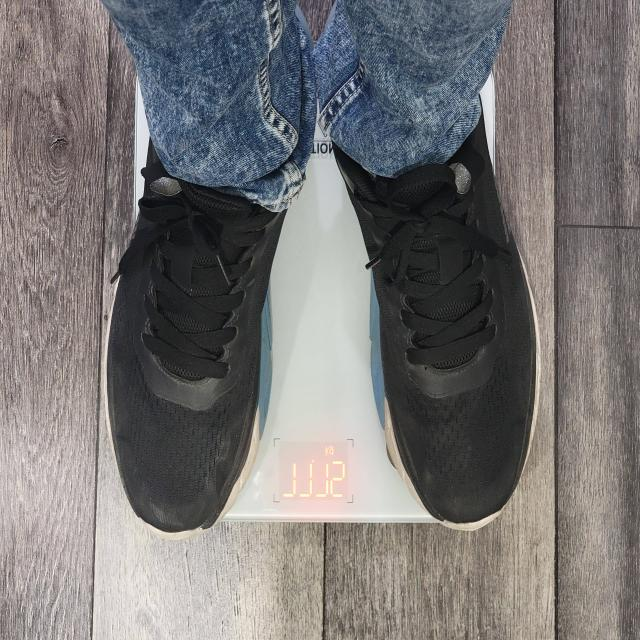ws: (221, 154, 434, 526)
